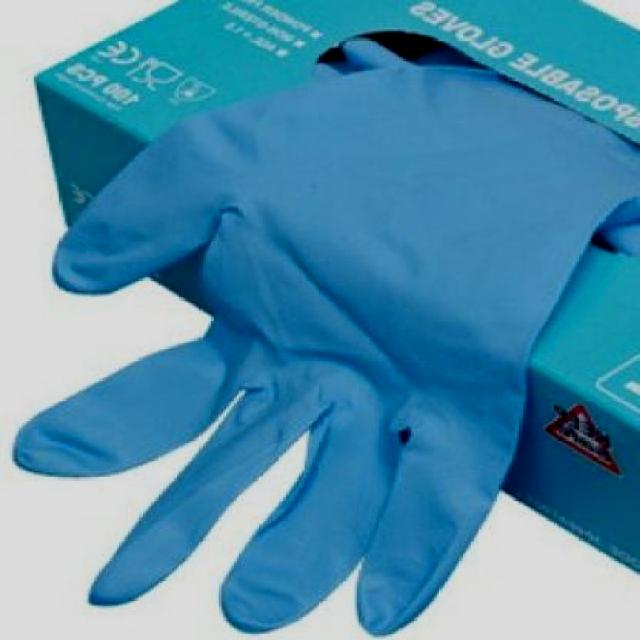glove: (14, 68, 640, 635)
